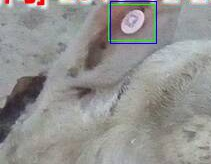text: (108, 4, 154, 40)
